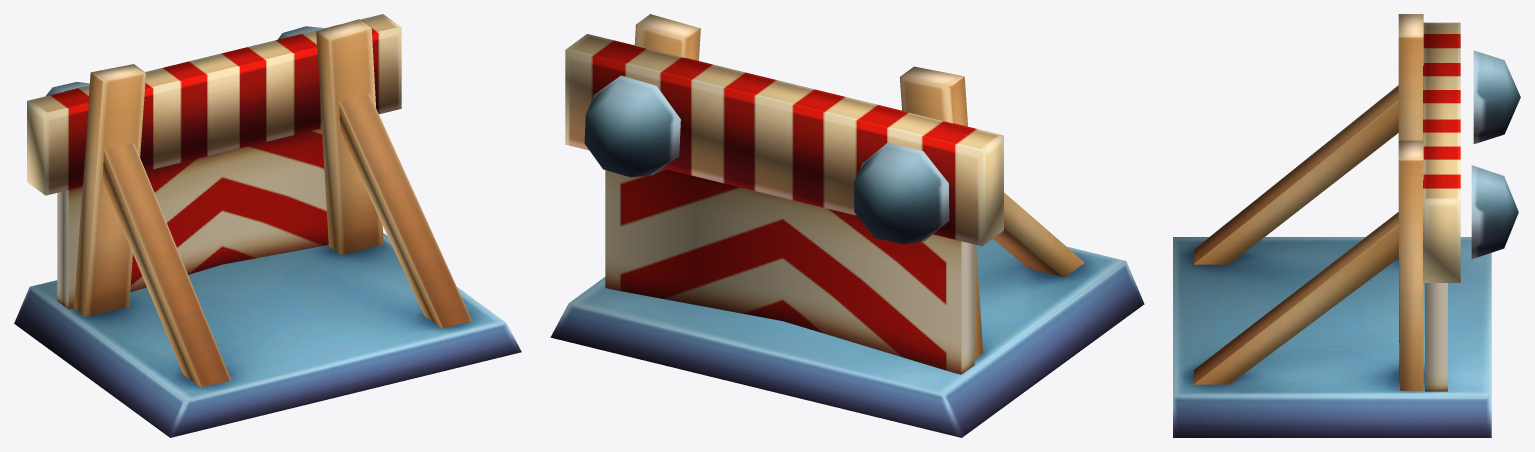
Rendered from blocker_jump.glb.
3 views of the same model, side by side, from view 1: azimuth 30°, elevation 25°; view 2: azimuth 150°, elevation 25°; view 3: azimuth 270°, elevation 25° (orthographic). The views are drawn at different scales.
Visible parts, largest first — view 1: Object_2; view 2: Object_2; view 3: Object_2.
Boxes of the visible parts, x1,y1,x2,y2 form: Object_2: (14, 14, 521, 437); Object_2: (550, 14, 1144, 437); Object_2: (1173, 14, 1520, 437).
Size of the model in its own units: 18.83 by 13.39 by 15.61.
1 material, 1 textured.
